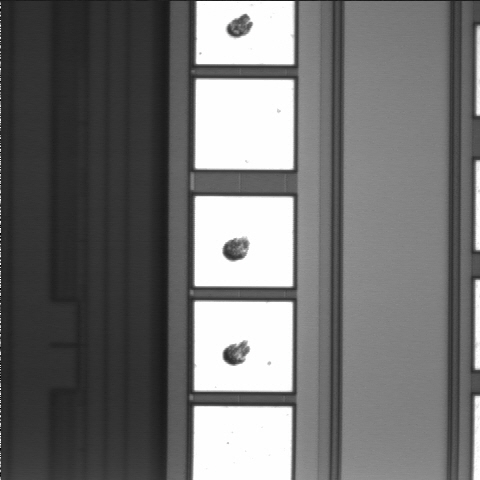pad: (195, 79, 294, 170), (194, 301, 293, 392), (195, 196, 293, 287)
